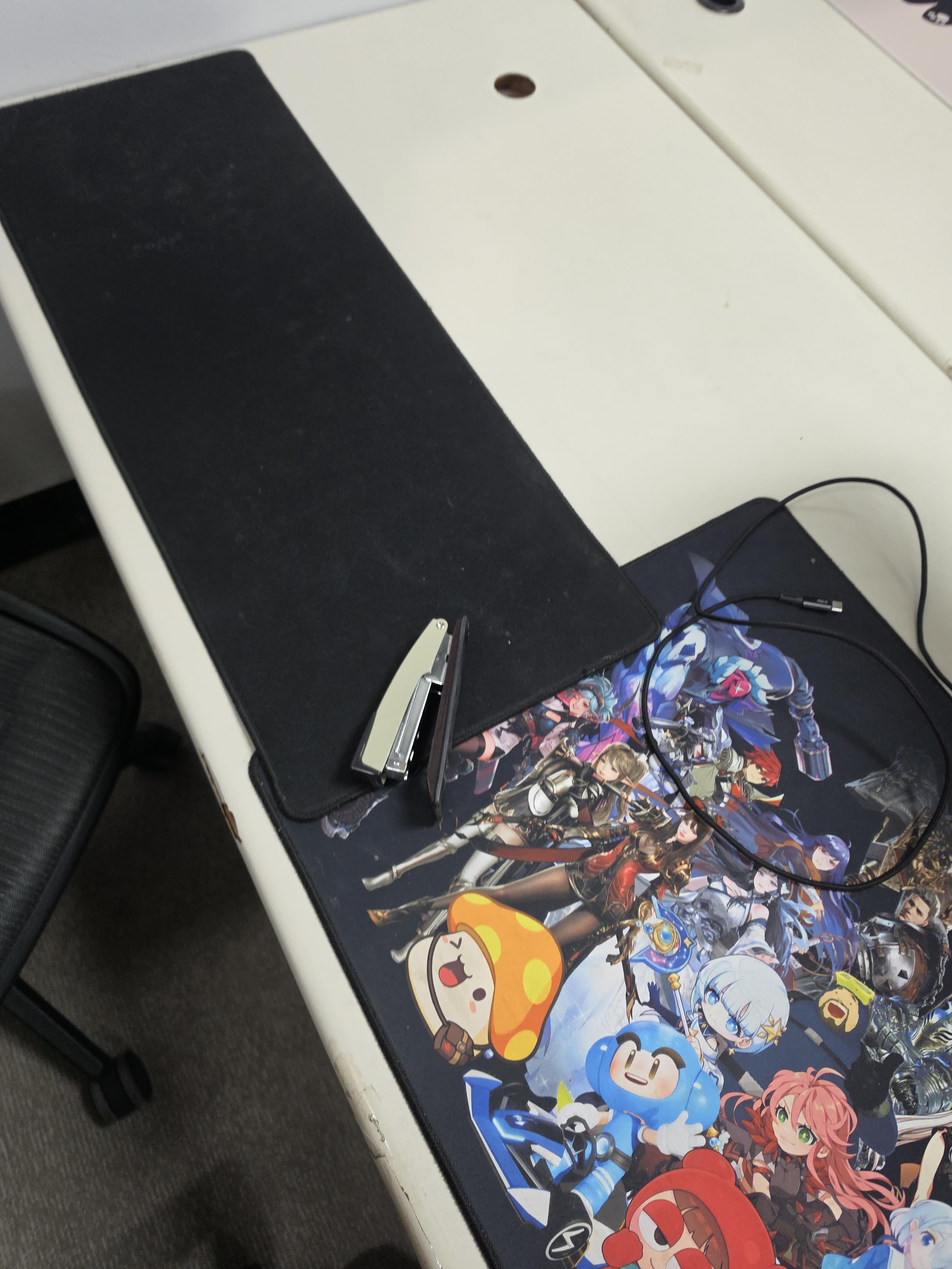stapler: (351, 614, 469, 819)
